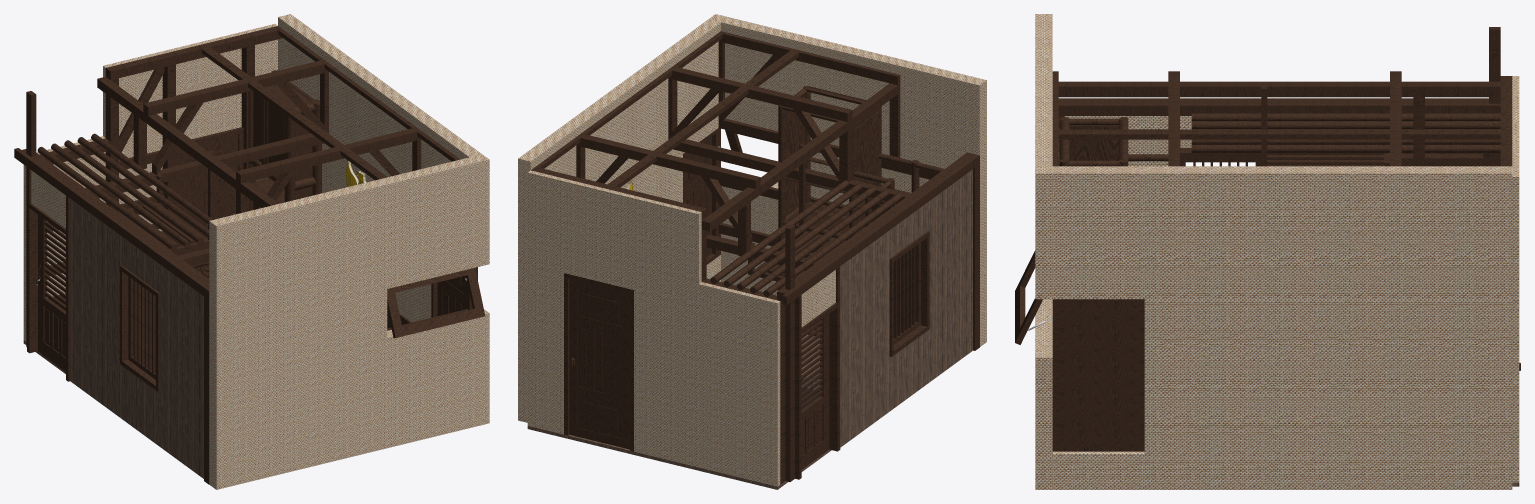
File: skpkampungnaga.fbx
3 renders of one model, left to right at view 1: azimuth 30°, elevation 25°; view 2: azimuth 150°, elevation 25°; view 3: azimuth 270°, elevation 25°, orthographic. The views are drawn at different scales.
Visible parts, largest first — view 1: C-garuda-pancasila.dwg.001; view 2: C-garuda-pancasila.dwg.001; view 3: C-garuda-pancasila.dwg.001.
Boxes of the visible parts, x1,y1,x2,y2 form: C-garuda-pancasila.dwg.001: (14,14,489,489); C-garuda-pancasila.dwg.001: (518,14,986,489); C-garuda-pancasila.dwg.001: (1015,14,1520,489).
Bounding box in the file's own units: 325 × 304 × 435.
13 materials, 7 textured.
